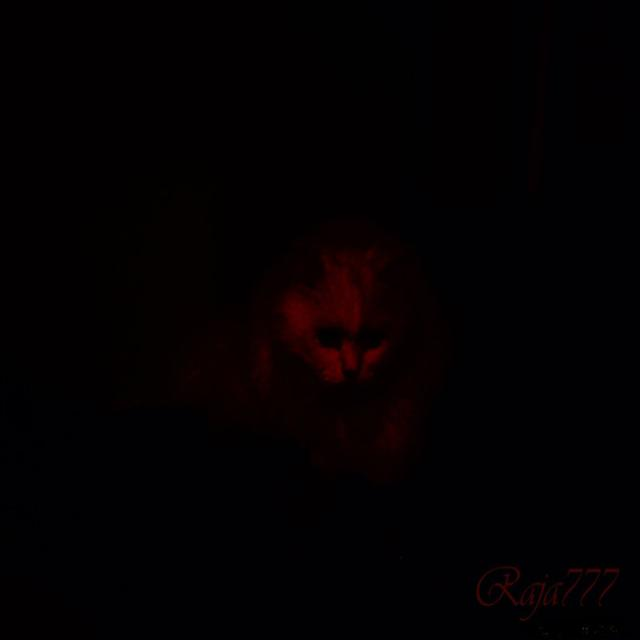Cat: (176, 191, 459, 506)
